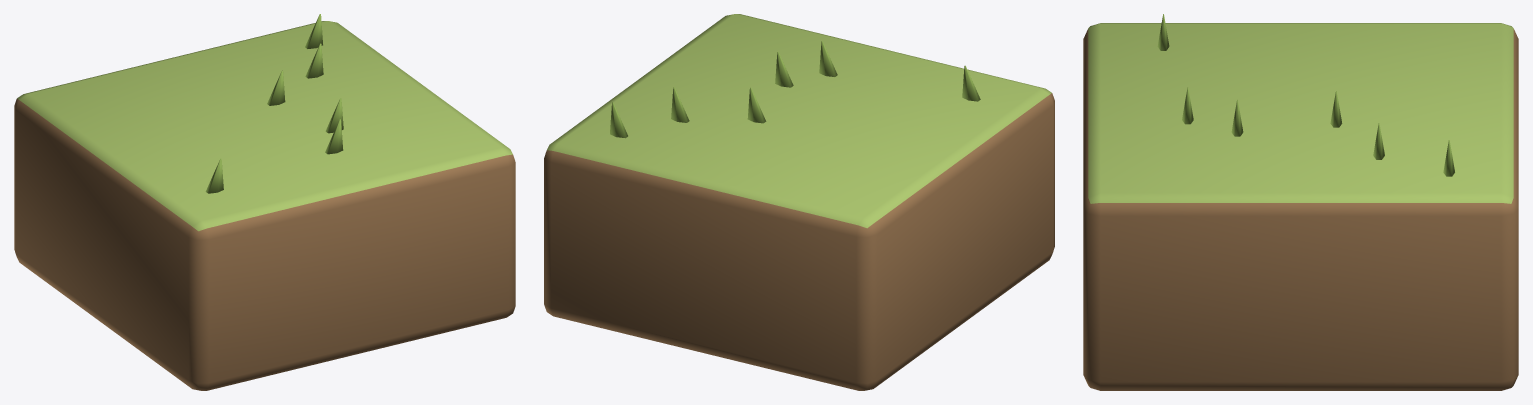
Rendered from tile-grass.glb.
3 renders of one model, left to right at view 1: azimuth 30°, elevation 25°; view 2: azimuth 150°, elevation 25°; view 3: azimuth 270°, elevation 25°, orthographic. The views are drawn at different scales.
Parts seen in each view (by area): view 1: tile; view 2: tile; view 3: tile.
Boxes of the visible parts, x1,y1,x2,y2 form: tile: (14, 14, 515, 390); tile: (544, 14, 1054, 390); tile: (1083, 14, 1518, 390).
Size of the model in its own units: 1 by 0.5903 by 1.
